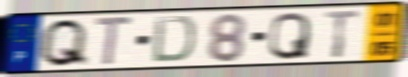8: (206, 12, 248, 64)
D: (149, 15, 198, 65)
Q: (36, 17, 90, 69), (266, 10, 313, 62)
T: (93, 14, 136, 68), (322, 9, 363, 60)
